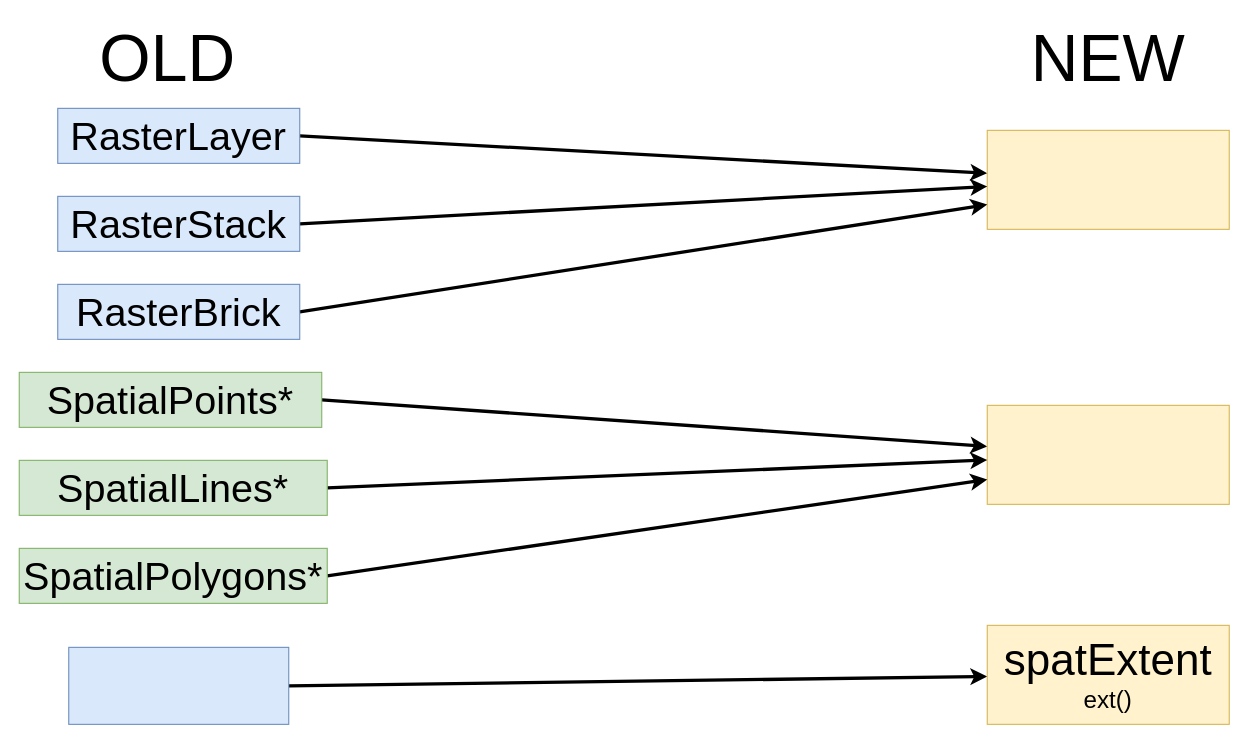
The diagram is 1249 pixels wide and 744 high, and some of its shapes have lost their labels. The shapes that lost their labels are listed below. From the top down, each one's centre as x and y in pixels, then its label:
At (1107,179): "spatRaster rast()".
At (1107,454): "spatVector vect()".
At (178,685): "Extent extent()".
